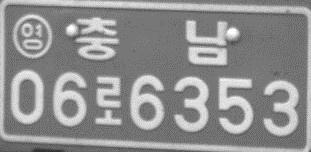0: (9, 68, 44, 125)
3: (262, 79, 300, 138), (171, 75, 209, 133)
5: (217, 76, 254, 135)
6: (50, 71, 87, 128), (129, 73, 165, 131)
로: (93, 75, 123, 128)
영: (11, 13, 51, 60)
충남_D: (74, 16, 230, 66)
